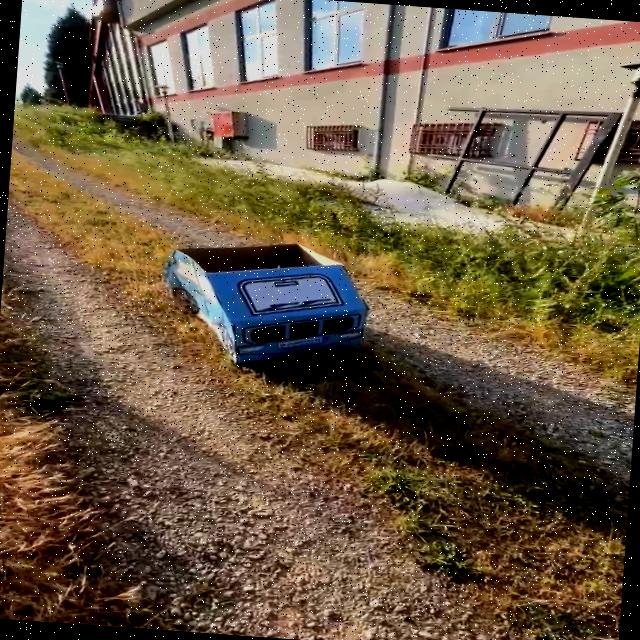blue_car: (90, 207, 437, 418)
